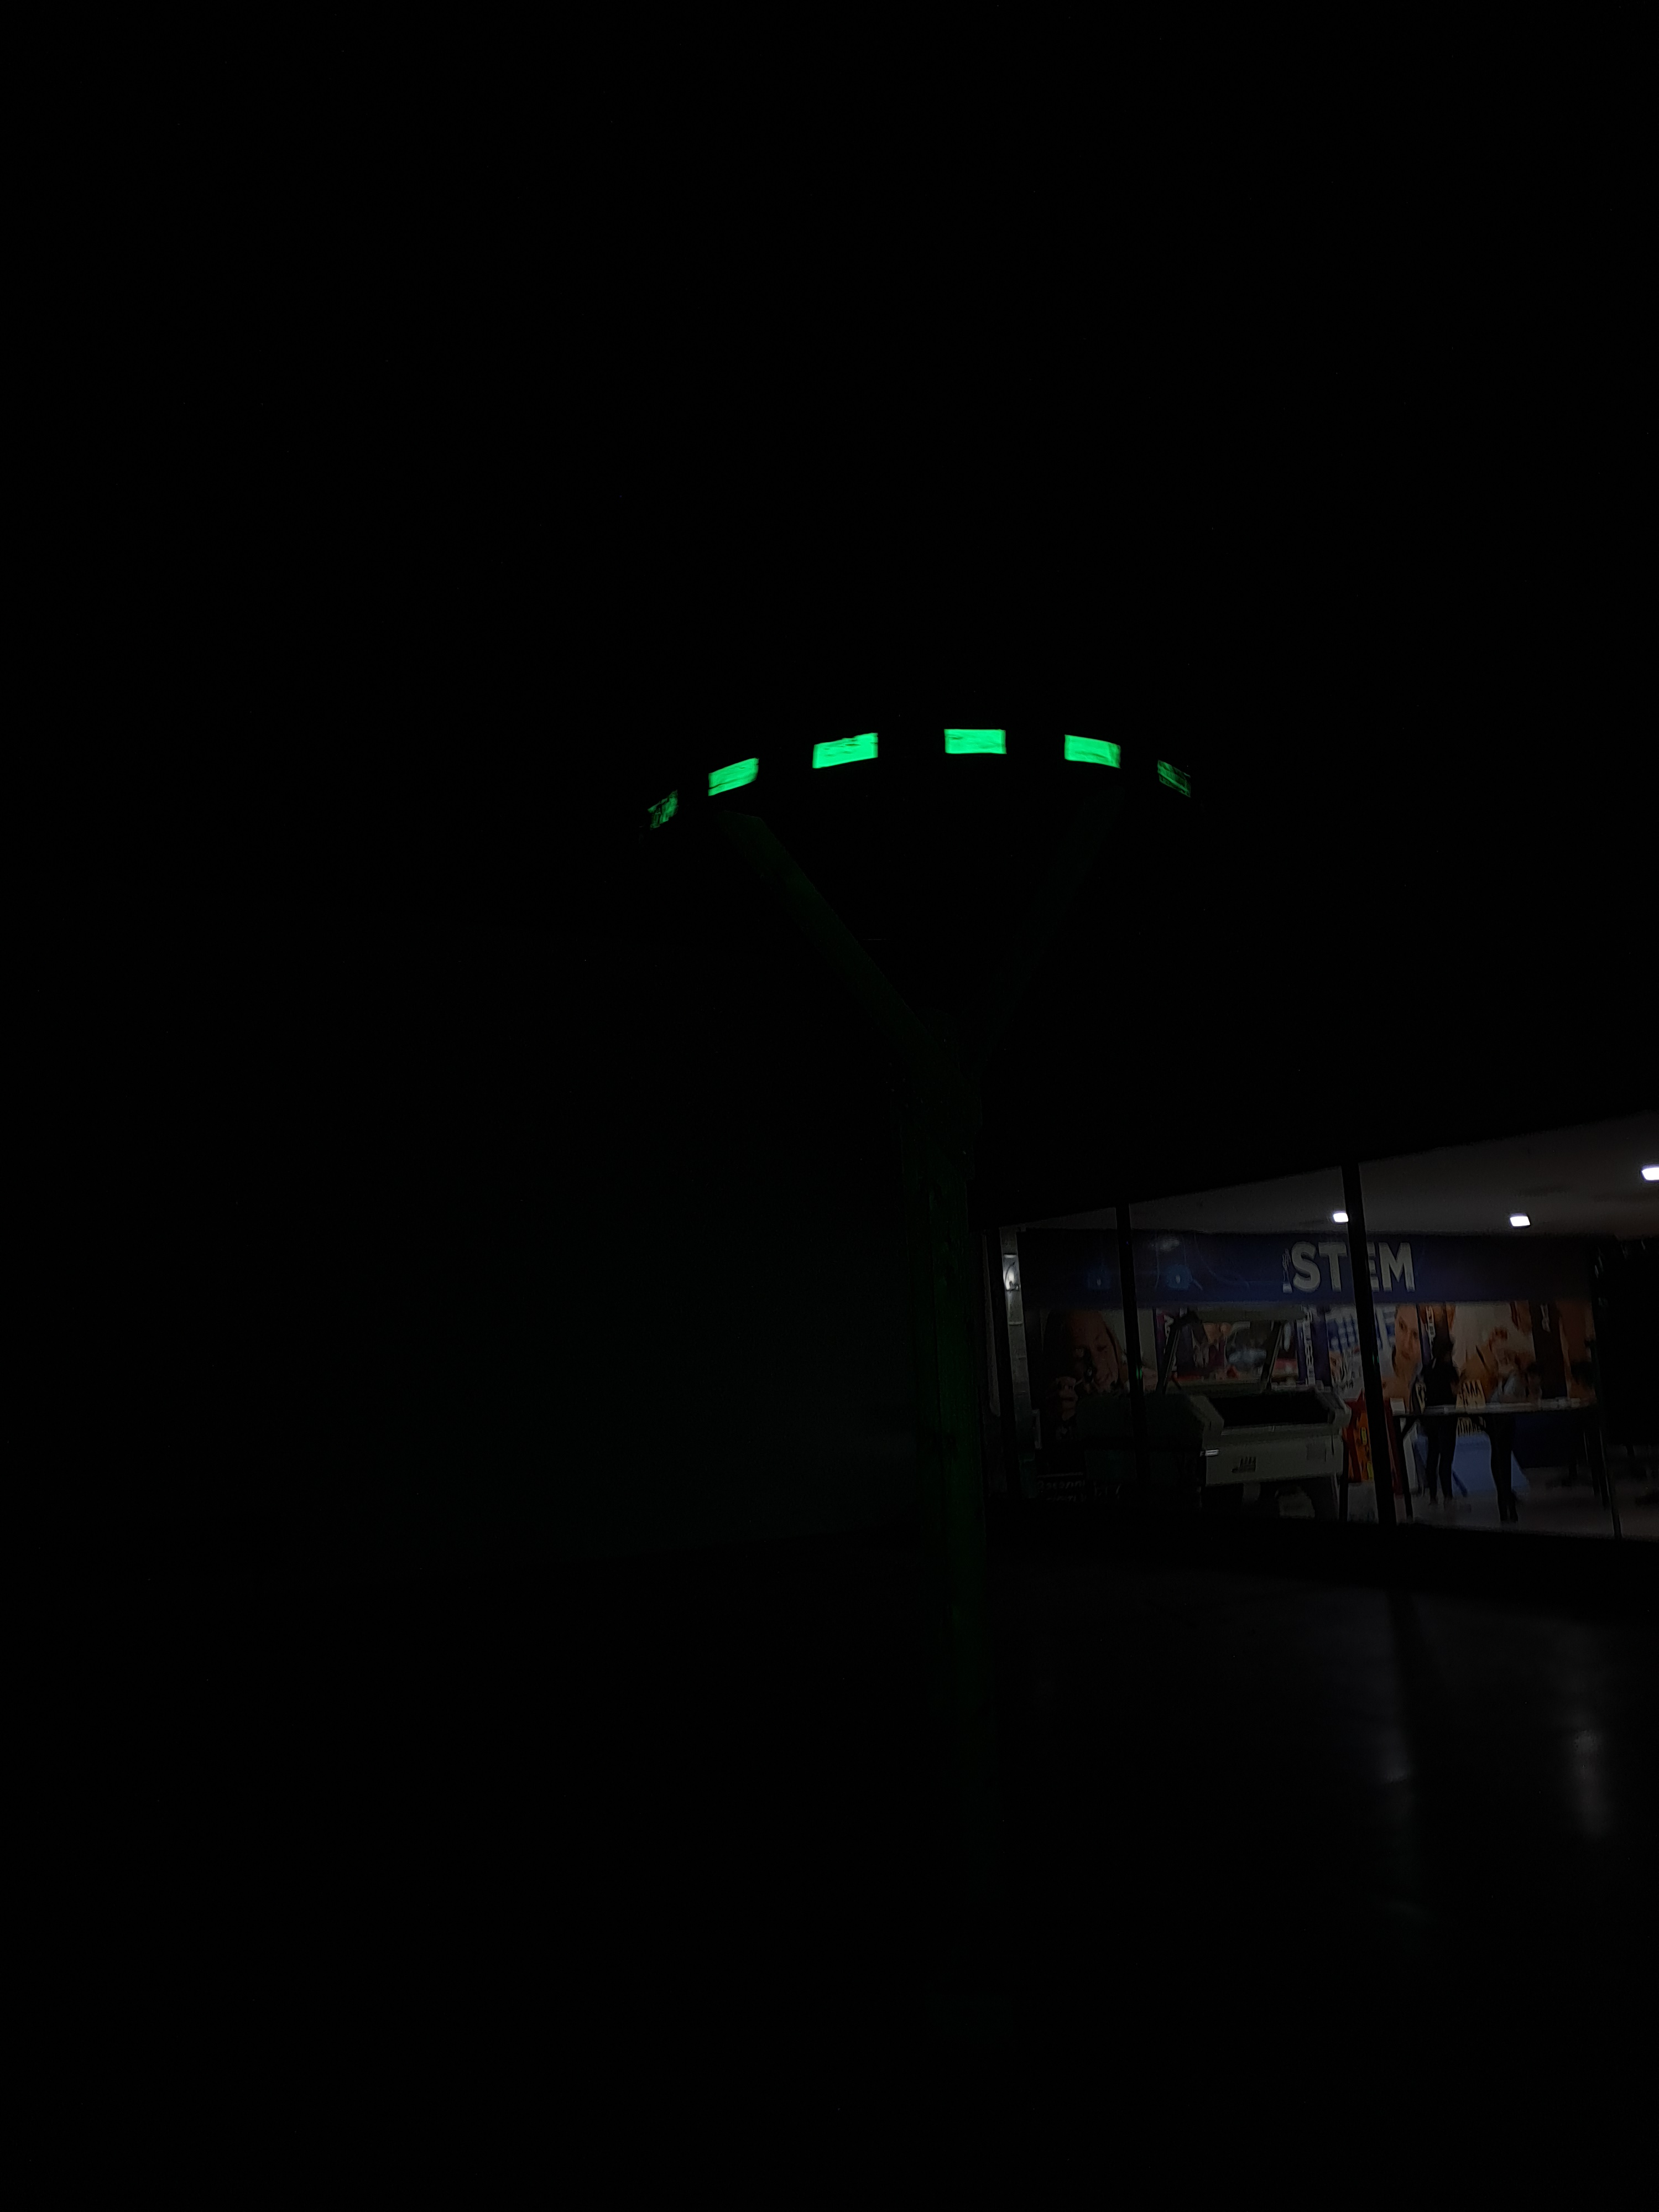hoop: (647, 726, 1197, 827)
